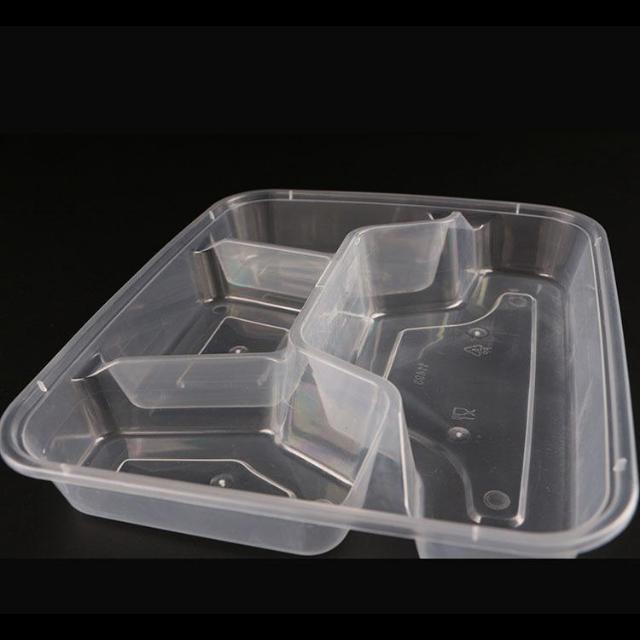plastic_box: (1, 186, 636, 558)
